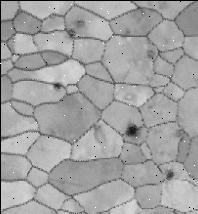good_void: (90, 123, 108, 147), (123, 120, 141, 138), (172, 127, 190, 141), (162, 167, 176, 183), (64, 27, 78, 39), (144, 46, 156, 60), (72, 17, 85, 29), (51, 80, 63, 90)
